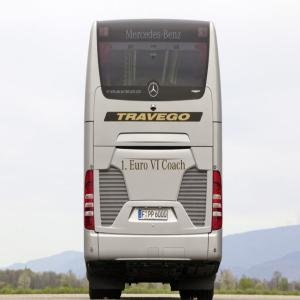Vehicle-registration-plate: (140, 207, 169, 222)
